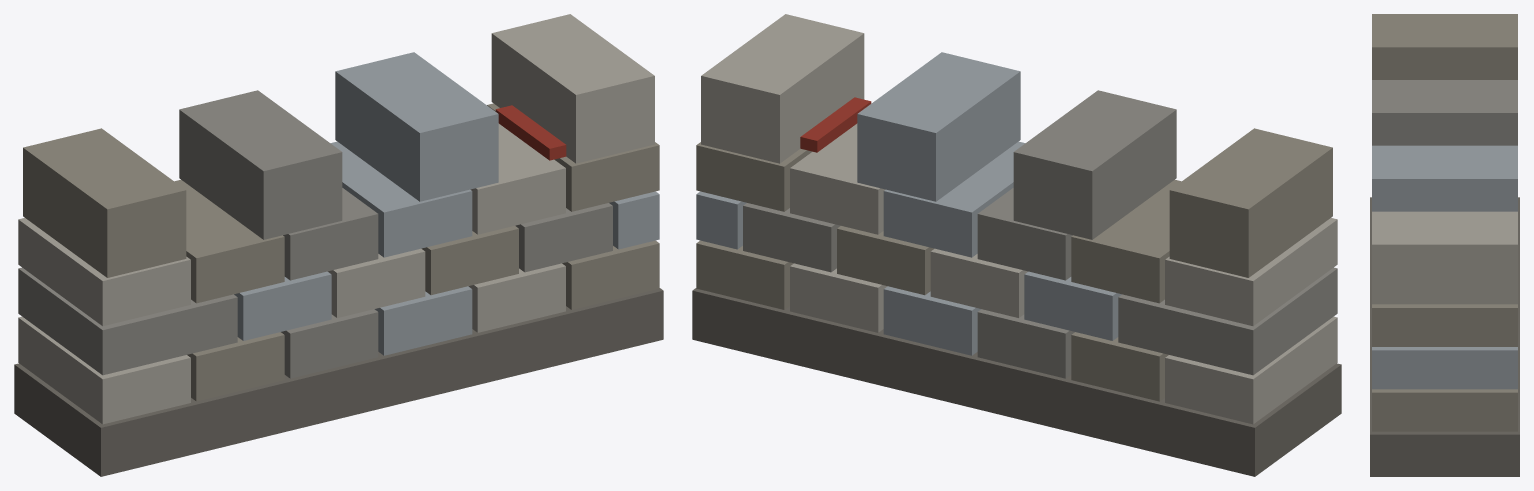
The model's file is Fort_Wall.glb.
3 renders of one model, left to right at view 1: azimuth 30°, elevation 25°; view 2: azimuth 150°, elevation 25°; view 3: azimuth 270°, elevation 25°, orthographic. The views are drawn at different scales.
Visible parts, largest first — view 1: Fort_Wall; view 2: Fort_Wall; view 3: Fort_Wall.
Boxes of the visible parts, bbox=[...] form: Fort_Wall: bbox=[14, 14, 663, 476]; Fort_Wall: bbox=[692, 14, 1341, 476]; Fort_Wall: bbox=[1370, 14, 1519, 476].
Bounding box in the file's own units: 3 × 1.35 × 0.8.
1 material, 1 textured.
